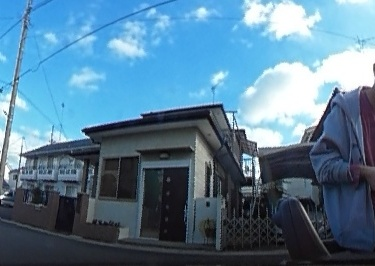person: (316, 30, 375, 252)
